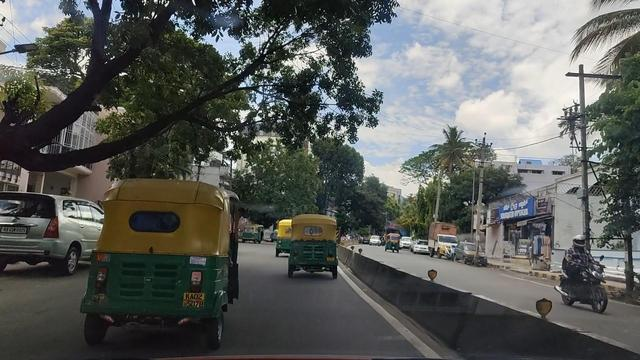LMV: (103, 173, 242, 346), (15, 195, 99, 271), (281, 225, 338, 282)
